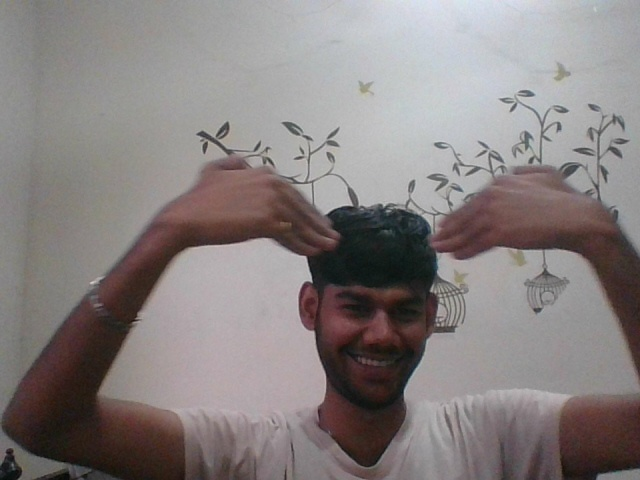I am Utkarsh: (183, 125, 578, 296)
